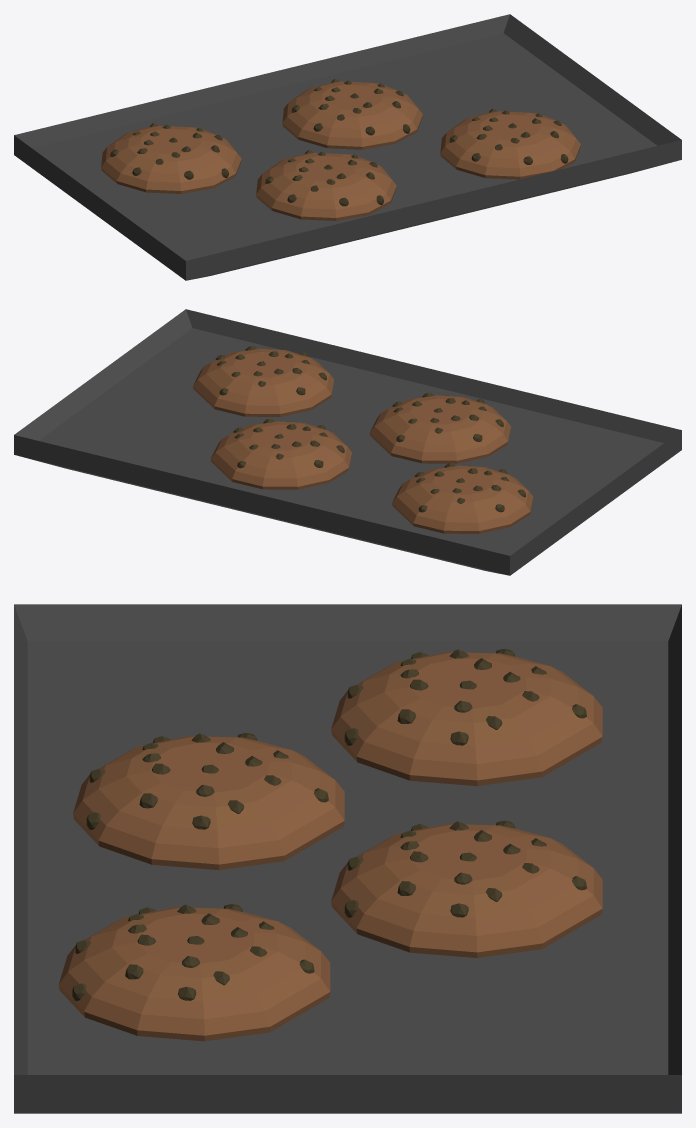
The model's file is bakedDarkCookieTray.fbx.
3 views of the same model, one above another, from view 1: azimuth 30°, elevation 25°; view 2: azimuth 150°, elevation 25°; view 3: azimuth 270°, elevation 25° (orthographic). The views are drawn at different scales.
Parts seen in each view (by area): view 1: Cube, Icosphere.005, Icosphere.003, Icosphere.001, Icosphere.007; view 2: Cube, Icosphere.005, Icosphere.003, Icosphere.007, Icosphere.001; view 3: Cube, Icosphere.007, Icosphere.003, Icosphere.001, Icosphere.005.
Part boxes in pixels (x1,y1,x2,y2): Cube: [14, 14, 681, 280]; Icosphere.005: [282, 79, 422, 149]; Icosphere.003: [256, 150, 396, 220]; Icosphere.001: [101, 123, 241, 193]; Icosphere.007: [440, 109, 580, 179]; Cube: [14, 309, 681, 575]; Icosphere.005: [210, 418, 351, 489]; Icosphere.003: [369, 392, 510, 463]; Icosphere.007: [193, 346, 334, 416]; Icosphere.001: [392, 463, 533, 533]; Cube: [14, 604, 681, 1113]; Icosphere.007: [58, 904, 330, 1041]; Icosphere.003: [73, 733, 344, 870]; Icosphere.001: [331, 649, 602, 785]; Icosphere.005: [331, 820, 602, 957].
Bounding box in the file's own units: 236 × 21.1 × 142.
